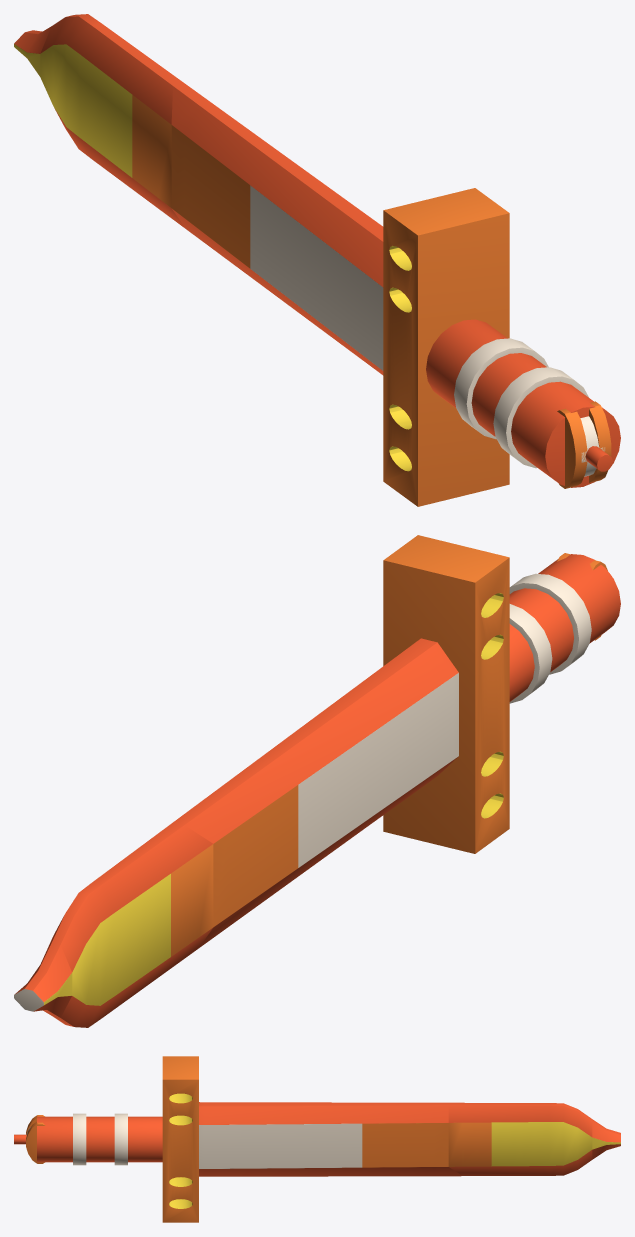
Rendered from Sword_FurnaceLongsword.glb.
3 renders of one model, top to bottom at view 1: azimuth 30°, elevation 25°; view 2: azimuth 150°, elevation 25°; view 3: azimuth 270°, elevation 25°, orthographic. The views are drawn at different scales.
Visible parts, largest first — view 1: Sword_FurnaceLongsword; view 2: Sword_FurnaceLongsword; view 3: Sword_FurnaceLongsword.
Boxes of the visible parts, bbox=[...] form: Sword_FurnaceLongsword: bbox=[14, 14, 620, 506]; Sword_FurnaceLongsword: bbox=[14, 535, 620, 1027]; Sword_FurnaceLongsword: bbox=[14, 1056, 620, 1222].
Bounding box in the file's own units: 0.092 × 0.26 × 1.
1 material, 1 textured.
